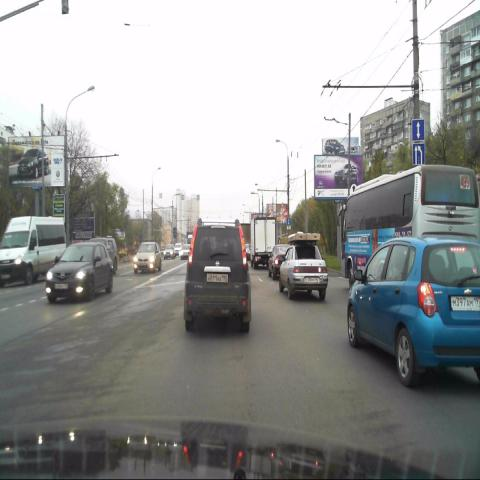5_8: (411, 117, 424, 141)
